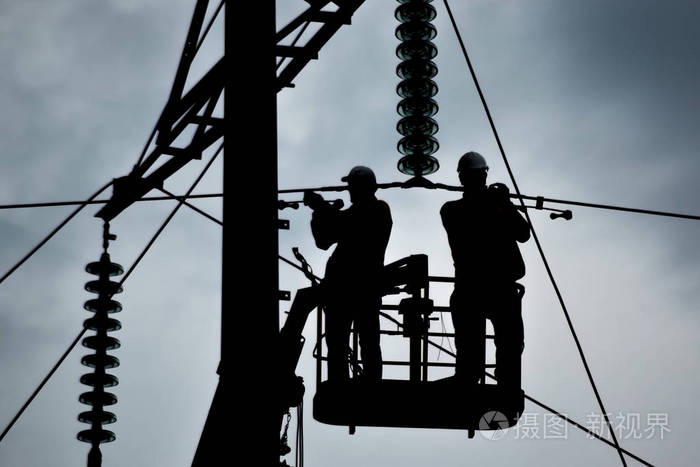insulator: (75, 259, 126, 445), (393, 1, 441, 179)
